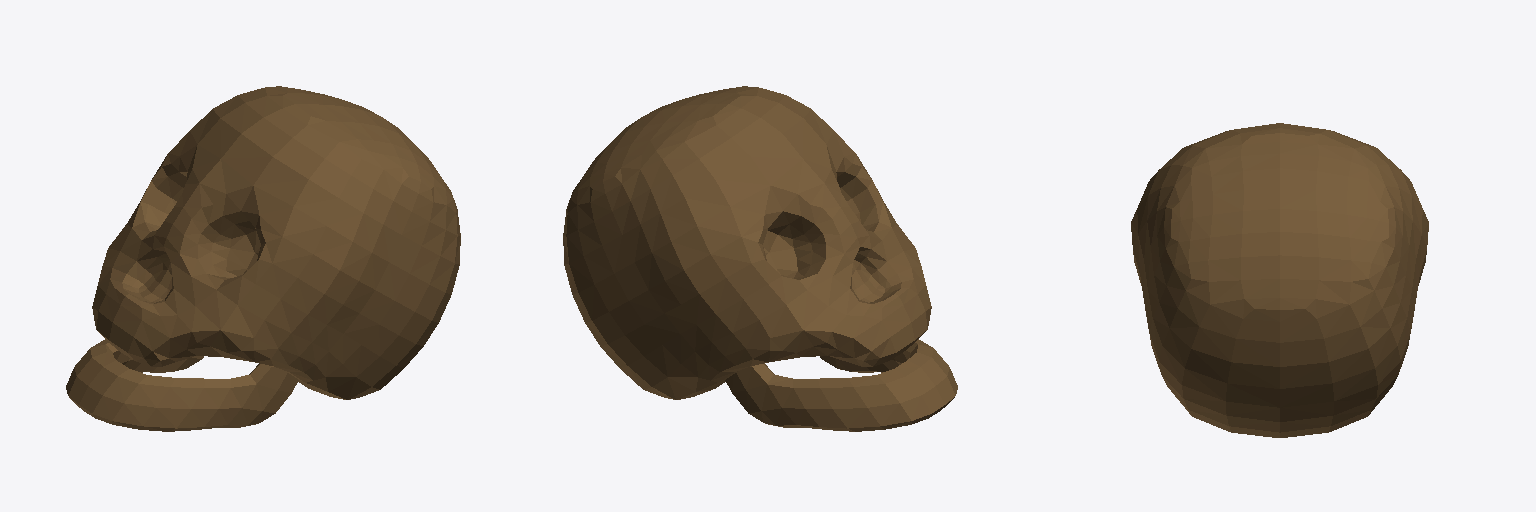
The model's file is Skull.obj.
3 renders of one model, left to right at view 1: azimuth 30°, elevation 25°; view 2: azimuth 150°, elevation 25°; view 3: azimuth 270°, elevation 25°, orthographic.
Parts seen in each view (by area): view 1: Skull.002; view 2: Skull.002; view 3: Skull.002.
Boxes of the visible parts, box(x1,y1,x2,y2) form: Skull.002: box(66, 86, 460, 431); Skull.002: box(563, 86, 957, 431); Skull.002: box(1131, 123, 1428, 437).
Size of the model in its own units: 0.6006 by 0.461 by 0.4383.